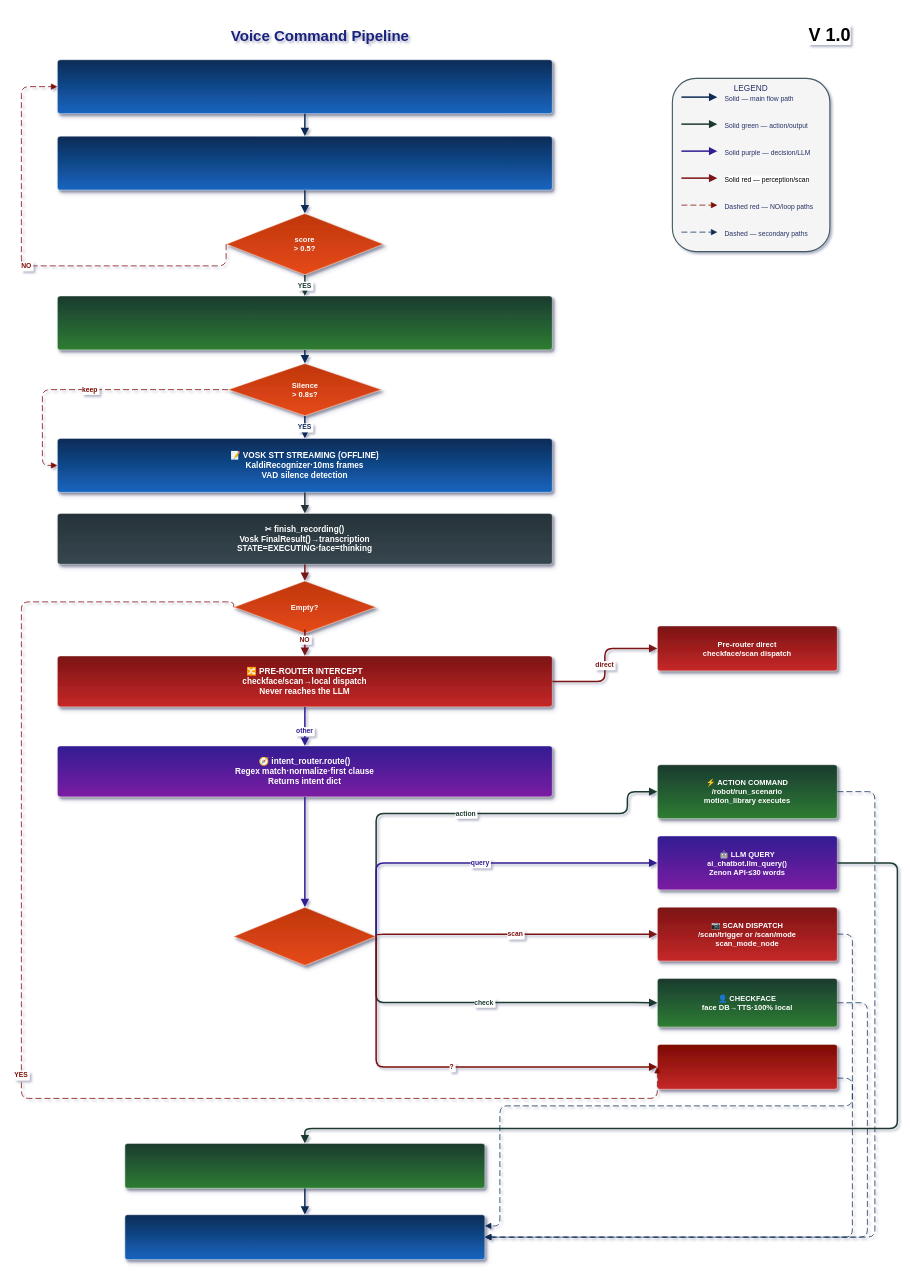
The diagram is 921 pixels wide and 1283 high, and some of its shapes have lost their labels. The shapes that lost their labels are listed below. From the top down, each one's centre as x and y in pixels, then its label:
point 305,87: 🎤 MICROPHONE INPUT ReSpeaker 4-Mic·6ch·16kHz sounddevice RawInputStream ch0
point 305,164: 👁 OPENWAREWAKEWORD Zee_Bot.onnx·80ms chunks OWW_GAIN=2.0·threshold 0.5
point 305,323: 🔔 WAKE DETECTED Play blip.wav·Latch mic direction face=listening·mode=listening
point 305,937: Intent?
point 747,1067: ❓ DONT UNDERSTAND play didntunderstand.wav
point 305,1166: 🔊 Piper TTS (CUDA) → aplay → speaker
point 305,1238: 🔁 reset_to_idle()·Clear OWW·Reset Vosk·face=default
